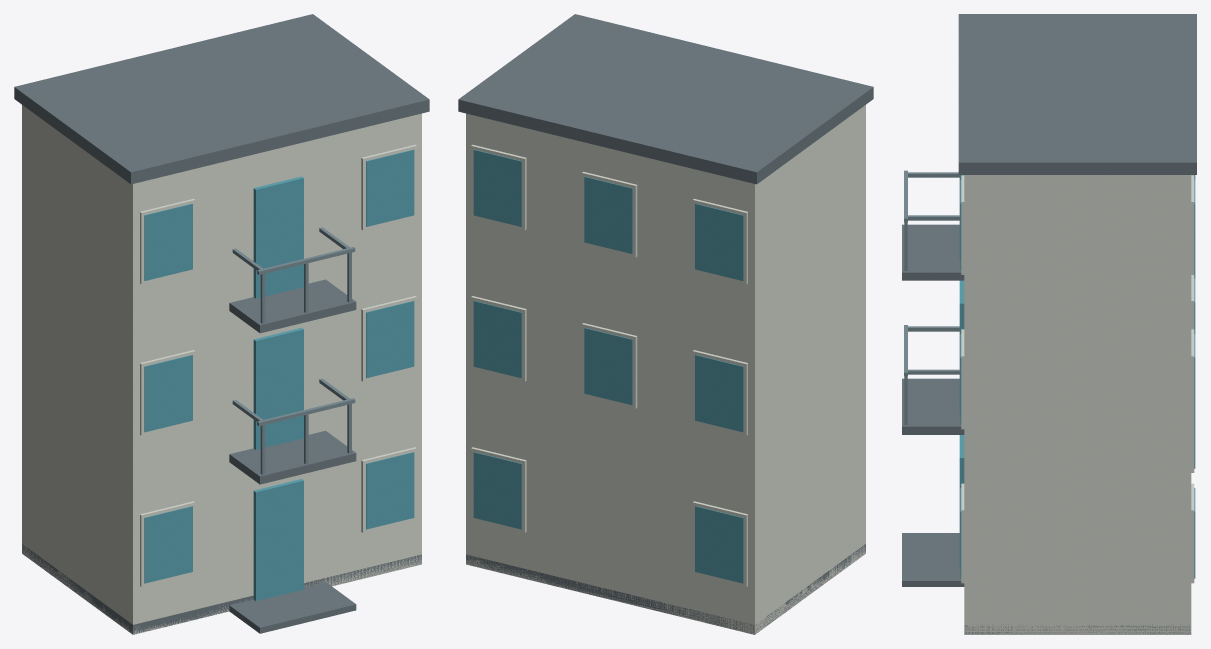
File: apartment-tall.glb
3 views of the same model, side by side, from view 1: azimuth 30°, elevation 25°; view 2: azimuth 150°, elevation 25°; view 3: azimuth 270°, elevation 25° (orthographic).
Parts seen in each view (by area): view 1: Building wall volume 001, Flat roof coping 049, Entry door 048, Balcony door 034, Balcony door 016, Balcony deck 023, Balcony deck 041, Ground entrance porch 011, Window blue glazing 004, Window blue glazing 008, Window blue glazing 013, Window blue glazing 031 (+11 smaller); view 2: Building wall volume 001, Flat roof coping 049, Plinth 002, Window blue glazing 006, Window blue glazing 010, Window blue glazing 015, Window blue glazing 033, Window blue glazing 036, Window blue glazing 018, Window blue glazing 022, Window blue glazing 040, Window trim 005 (+7 smaller); view 3: Building wall volume 001, Flat roof coping 049, Balcony deck 041, Balcony deck 023, Ground entrance porch 011, Plinth 002, Entry door 048, Balcony door 016.
Part boxes in pixels (x1,y1,x2,y2): Building wall volume 001: (22,105,421,634); Flat roof coping 049: (14,14,429,184); Entry door 048: (253,479,303,600); Balcony door 034: (253,176,303,298); Balcony door 016: (253,327,303,449); Balcony deck 023: (229,430,356,484); Balcony deck 041: (229,279,356,333); Ground entrance porch 011: (229,582,356,633); Window blue glazing 004: (144,506,192,583); Window blue glazing 008: (366,452,414,529); Window blue glazing 013: (144,355,192,432); Window blue glazing 031: (144,203,192,280); Building wall volume 001: (466,105,865,634); Flat roof coping 049: (458,14,873,184); Plinth 002: (466,544,865,634); Window blue glazing 006: (695,506,743,583); Window blue glazing 010: (473,452,521,529); Window blue glazing 015: (695,355,743,432); Window blue glazing 033: (695,203,743,280); Window blue glazing 036: (584,176,632,253); Window blue glazing 018: (584,328,632,405); Window blue glazing 022: (473,301,521,378); Window blue glazing 040: (473,149,521,226); Window trim 005: (692,501,747,586); Building wall volume 001: (964,175,1191,634); Flat roof coping 049: (958,14,1196,174); Balcony deck 041: (902,224,964,280); Balcony deck 023: (902,378,964,434); Ground entrance porch 011: (902,533,964,586); Plinth 002: (964,624,1190,634); Entry door 048: (959,435,964,568); Balcony door 016: (959,280,964,414).
Size of the model in its own units: 6.2 by 9.24 by 5.2.
Materials: 4 (4 with a texture image).
